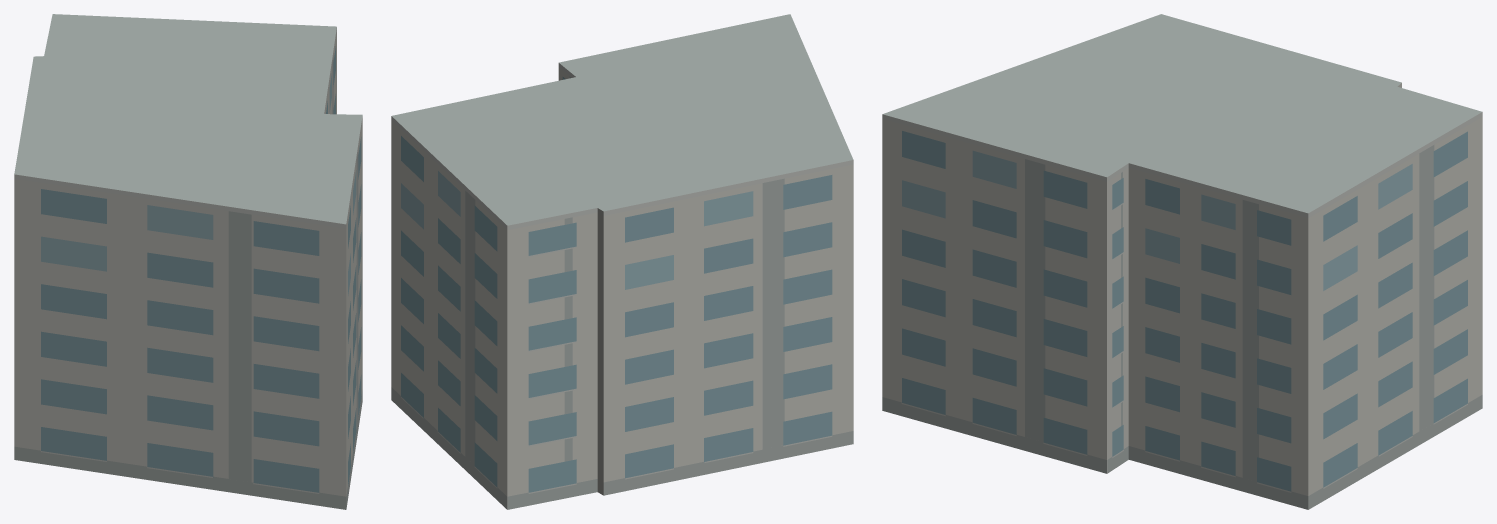
File: survey-upis-32494019.glb
3 renders of one model, left to right at view 1: azimuth 30°, elevation 25°; view 2: azimuth 150°, elevation 25°; view 3: azimuth 270°, elevation 25°, orthographic. The views are drawn at different scales.
Visible parts, largest first — view 1: survey-upis-32494019.tmp; view 2: survey-upis-32494019.tmp; view 3: survey-upis-32494019.tmp.
Boxes of the visible parts, x1,y1,x2,y2 form: survey-upis-32494019.tmp: (14,14,362,509); survey-upis-32494019.tmp: (391,14,853,509); survey-upis-32494019.tmp: (882,14,1482,509).
Size of the model in its own units: 22.37 by 15.5 by 28.45.
